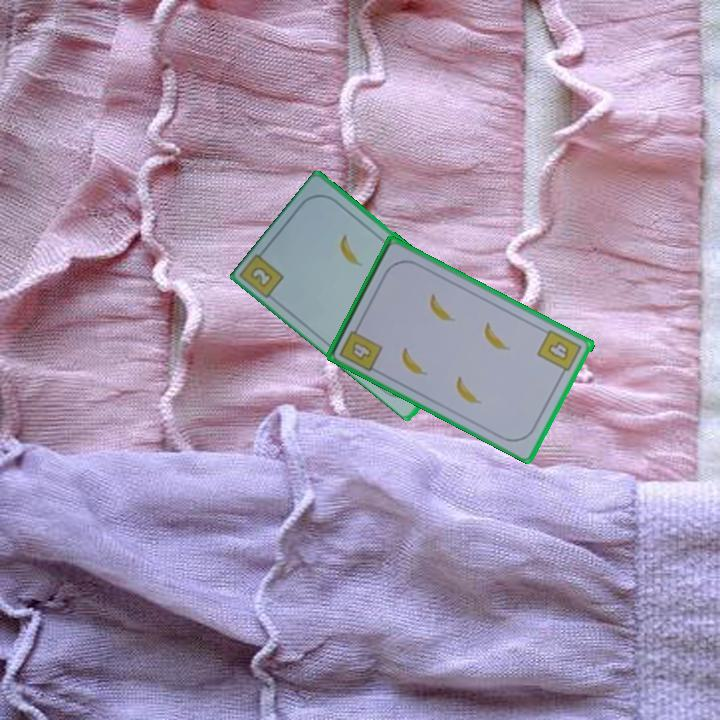2b: (247, 263, 276, 290)
4b: (534, 326, 585, 379), (348, 337, 375, 363)
